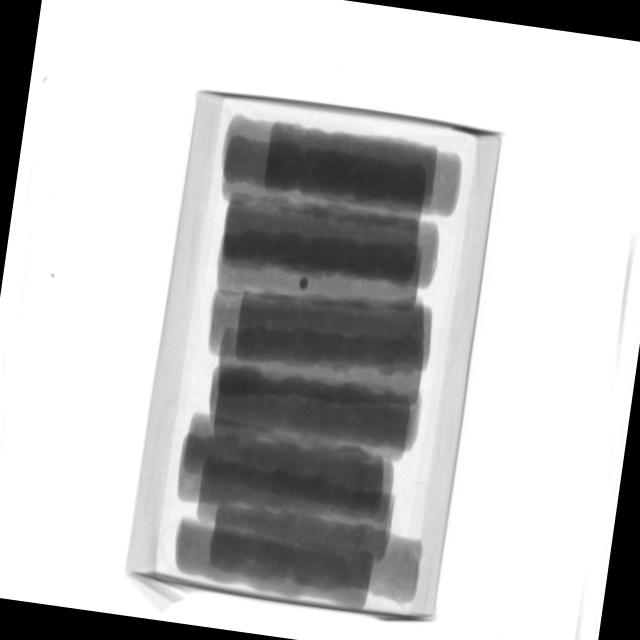ym: (298, 277, 310, 292)
